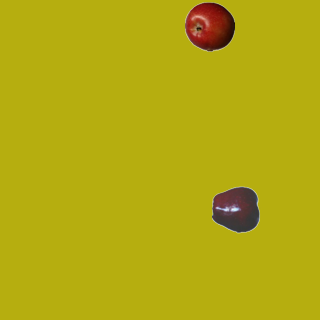Apple Braeburn: (184, 1, 234, 51)
Apple Red Delicious: (211, 184, 261, 234)
